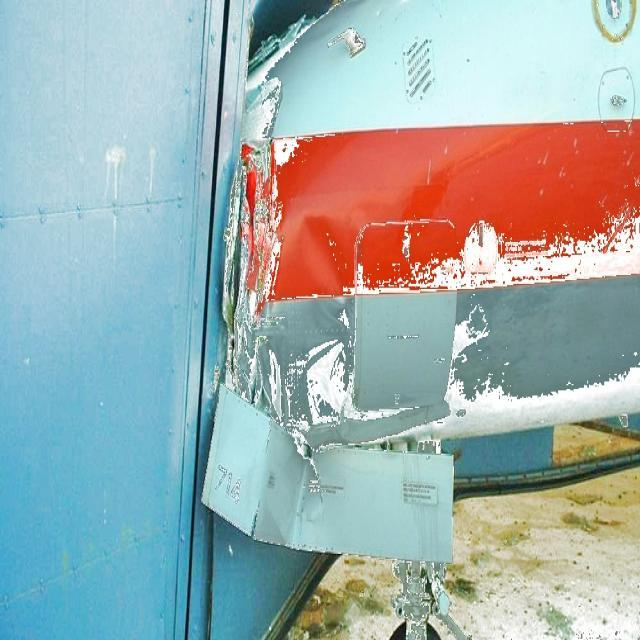Dent: (297, 215, 352, 421)
